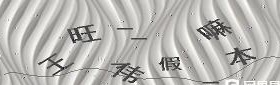chinese: (195, 17, 229, 39), (67, 23, 95, 47), (113, 62, 142, 85), (229, 47, 254, 69), (40, 53, 66, 74), (161, 55, 180, 74)
